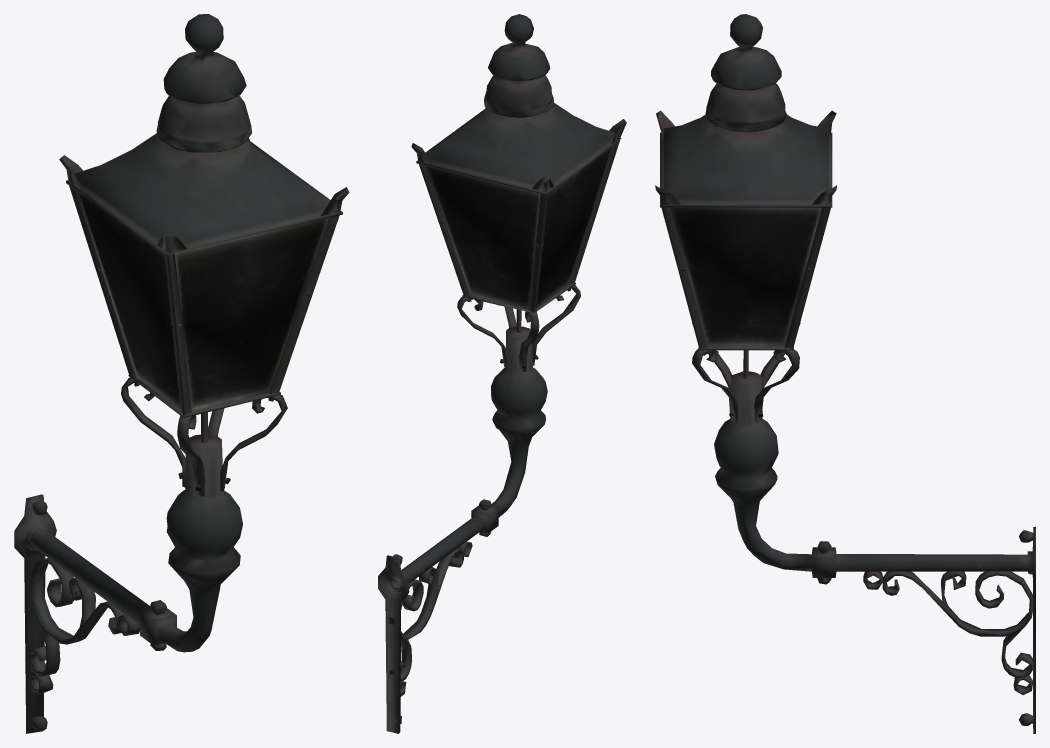
The model's file is street_lamp_02.glb.
The picture shows the model from 3 angles, left to right: view 1: azimuth 30°, elevation 25°; view 2: azimuth 150°, elevation 25°; view 3: azimuth 270°, elevation 25°; orthographic projection. The views are drawn at different scales.
Visible parts, largest first — view 1: street_lamp_02; view 2: street_lamp_02; view 3: street_lamp_02.
Boxes of the visible parts, x1=… form: street_lamp_02: x1=14, y1=14, x2=349, y2=733; street_lamp_02: x1=378, y1=14, x2=626, y2=733; street_lamp_02: x1=655, y1=14, x2=1035, y2=733.
Bounding box in the file's own units: 0.3863 × 1.67 × 0.8066.
Materials: 2 (2 with a texture image).
